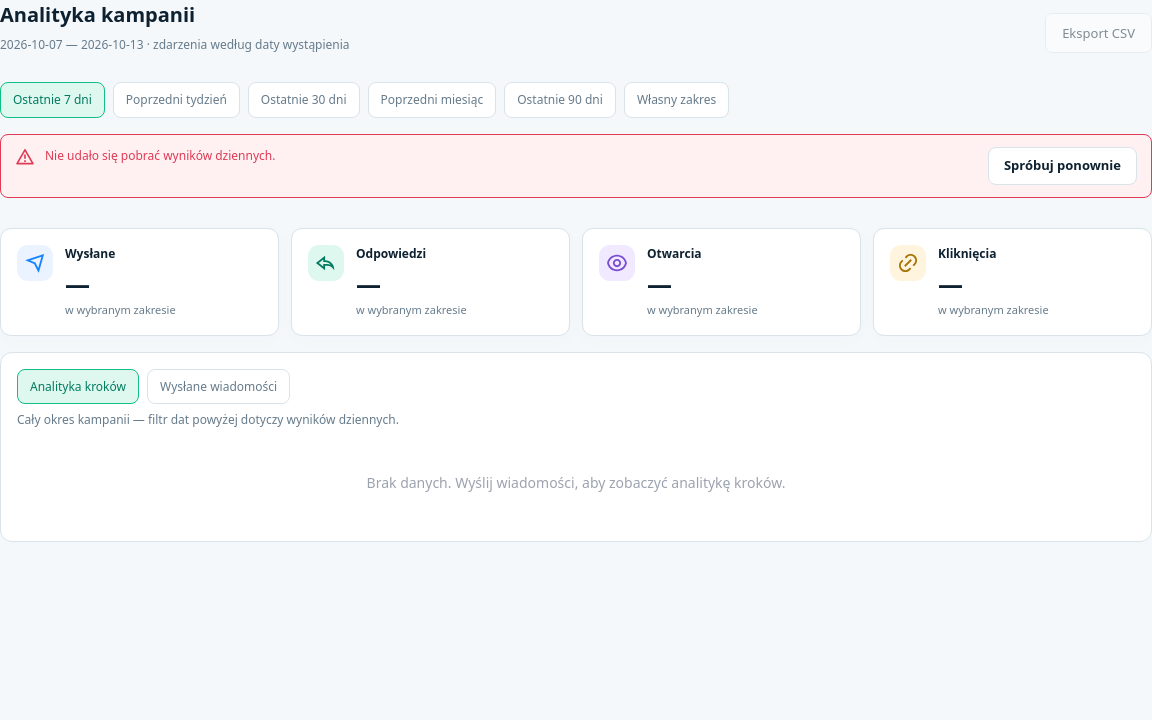
distinguishes failed daily data from zero results and retries
expect the message "Nie udało się pobrać wyników dziennych. Spróbuj ponownie" is shown: met, box top-left (0, 134), bottom-right (1151, 198)
expect the 1st text with class "sk-metric-value" reads "—": met, box top-left (65, 266), bottom-right (90, 300)
Click the button "Spróbuj ponownie": click(1062, 166) top-left (988, 147), bottom-right (1137, 185)
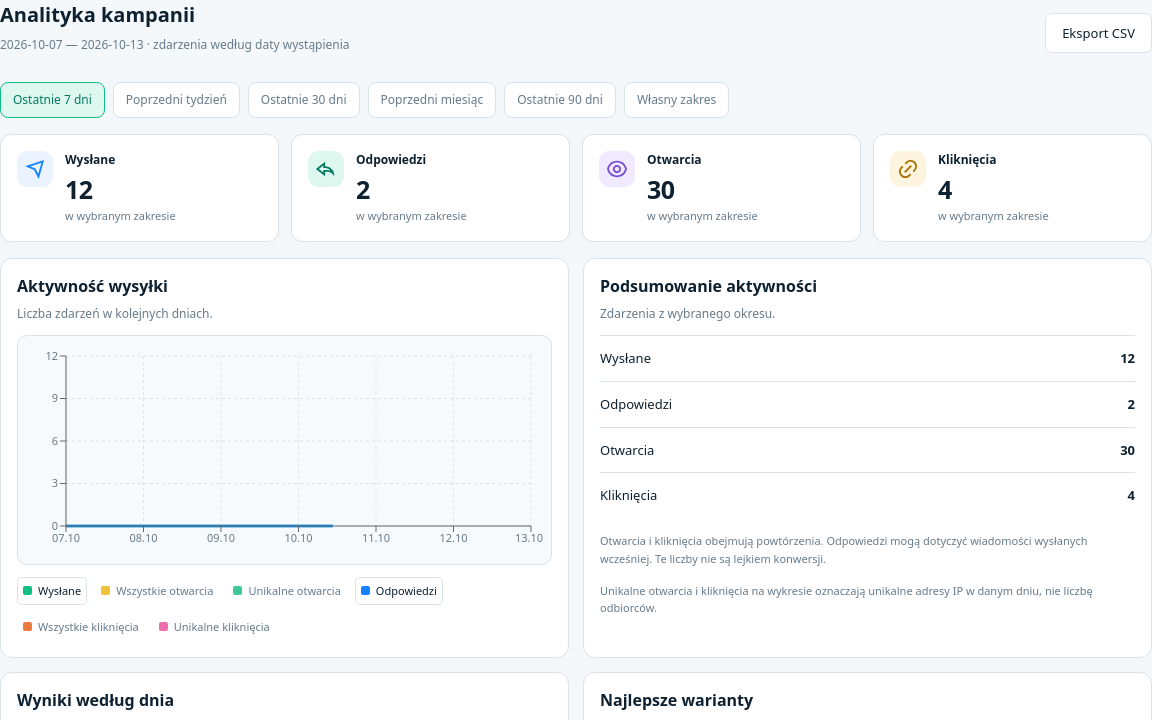
expect the heading "Wyniki według dnia" is shown: met, box top-left (17, 689), bottom-right (174, 711)
expect the 1st text with class "sk-metric-value" reads "12": met, box top-left (65, 172), bottom-right (93, 206)
expect the message "Nie udało się pobrać wyników dziennych. Spróbuj ponownie" is gone: met
